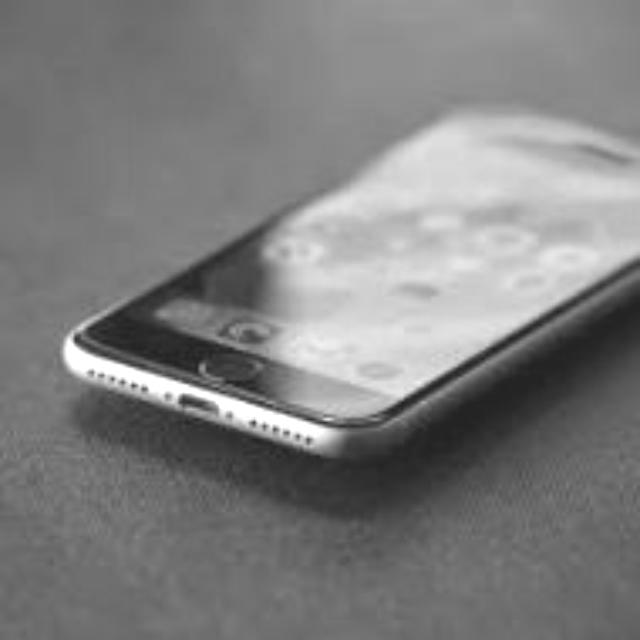fake: (35, 59, 640, 504)
